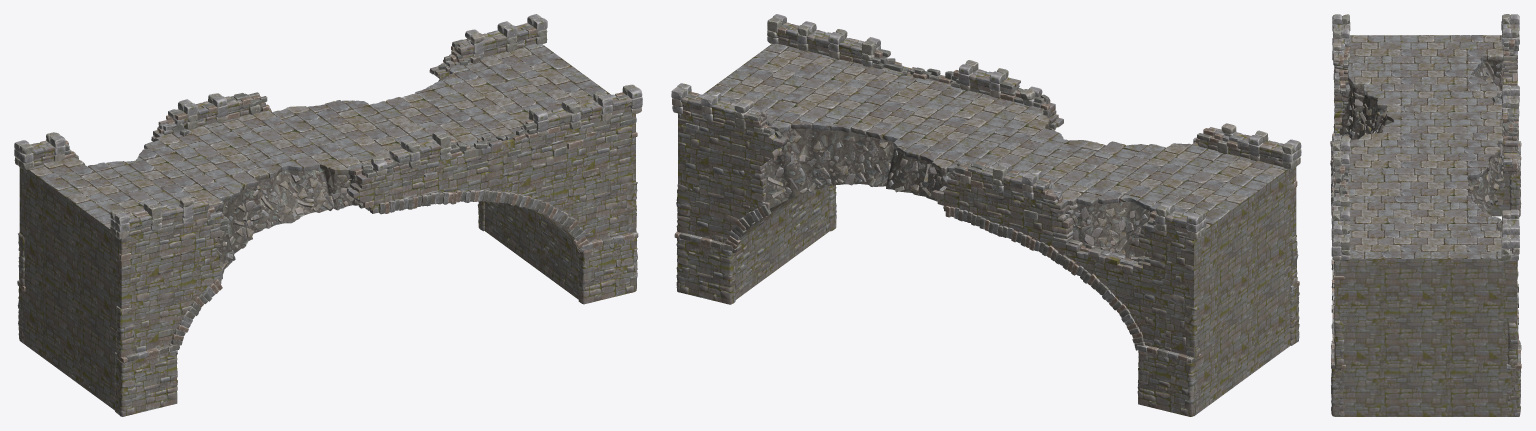
3 renders of one model, left to right at view 1: azimuth 30°, elevation 25°; view 2: azimuth 150°, elevation 25°; view 3: azimuth 270°, elevation 25°, orthographic. The views are drawn at different scales.
Parts seen in each view (by area): view 1: SM_Castle_Bridge_01_Dmg_LOD0; view 2: SM_Castle_Bridge_01_Dmg_LOD0; view 3: SM_Castle_Bridge_01_Dmg_LOD0.
Part boxes in pixels (left/top/right/bottom): SM_Castle_Bridge_01_Dmg_LOD0: left=14, top=14, right=642, bottom=416; SM_Castle_Bridge_01_Dmg_LOD0: left=671, top=14, right=1301, bottom=416; SM_Castle_Bridge_01_Dmg_LOD0: left=1330, top=14, right=1521, bottom=416.
Bounding box in the file's own units: 32.63 × 11.91 × 11.57.
5 materials, 5 textured.
